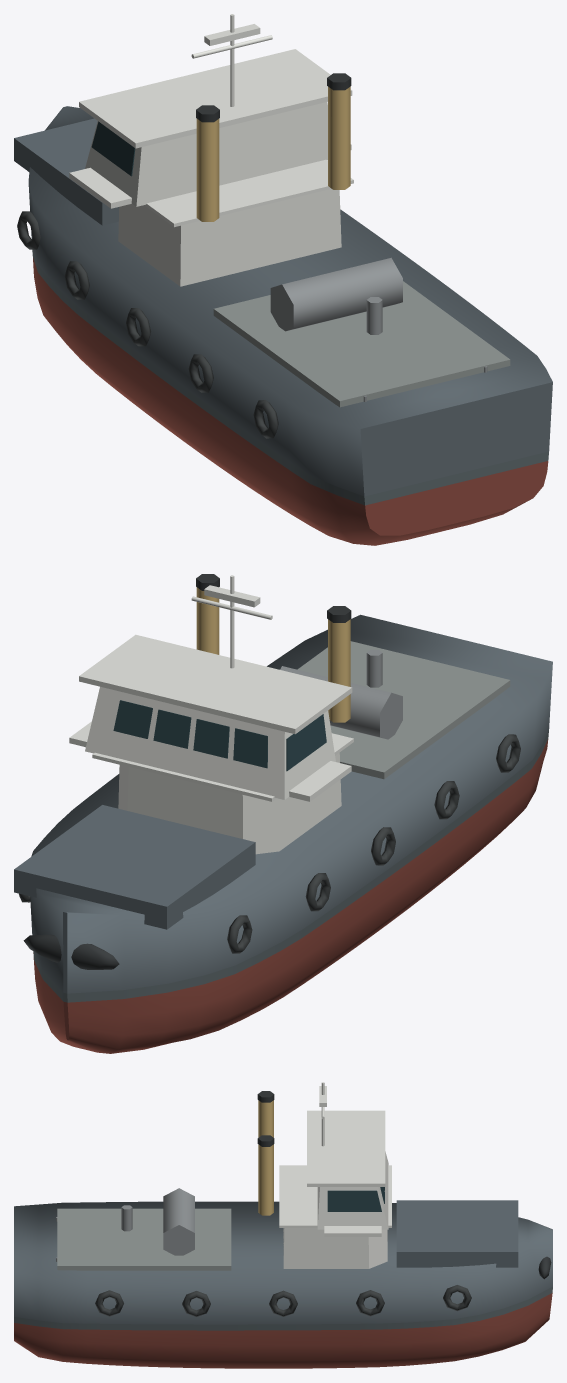
The model's file is tug-low.glb.
3 renders of one model, top to bottom at view 1: azimuth 30°, elevation 25°; view 2: azimuth 150°, elevation 25°; view 3: azimuth 270°, elevation 25°, orthographic. The views are drawn at different scales.
Visible parts, largest first — view 1: hull, white, bottom, deck, metal, stripe, ochre, rubber, window, black; view 2: hull, white, bottom, deck, window, stripe, rubber, metal, ochre, black; view 3: hull, bottom, white, deck, stripe, metal, rubber, ochre, window, black.
Part boxes in pixels (x1,y1,x2,y2): hull: [14, 106, 552, 496]; white: [69, 14, 353, 286]; bottom: [33, 258, 548, 545]; deck: [213, 281, 510, 407]; metal: [270, 257, 487, 401]; stripe: [32, 250, 548, 505]; ochre: [196, 86, 350, 221]; rubber: [17, 211, 278, 438]; window: [91, 121, 135, 176]; black: [196, 73, 351, 122]; hull: [14, 614, 552, 993]; white: [69, 575, 353, 854]; bottom: [33, 739, 548, 1053]; deck: [297, 641, 510, 779]; window: [113, 700, 326, 771]; stripe: [33, 730, 548, 1002]; rubber: [19, 734, 520, 953]; metal: [280, 649, 402, 739]; ochre: [196, 587, 350, 722]; black: [23, 574, 351, 969]; hull: [14, 1200, 552, 1324]; bottom: [14, 1293, 552, 1368]; white: [279, 1082, 391, 1268]; deck: [57, 1208, 231, 1270]; stripe: [14, 1286, 552, 1330]; metal: [56, 1188, 194, 1261]; rubber: [95, 1285, 471, 1316]; ochre: [258, 1100, 273, 1215]; window: [327, 1187, 384, 1211]; black: [257, 1091, 551, 1279].
Size of the model in its own units: 11.67 by 16.6 by 31.
